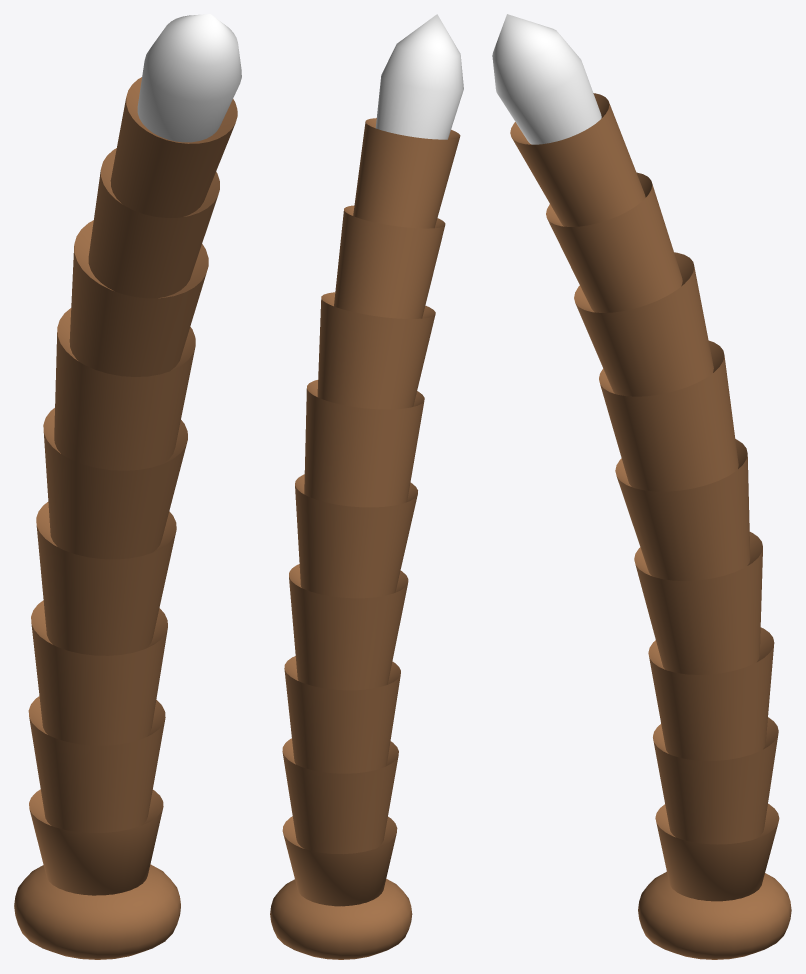
Rendered from Antenna.fbx.
3 views of the same model, side by side, from view 1: azimuth 30°, elevation 25°; view 2: azimuth 150°, elevation 25°; view 3: azimuth 270°, elevation 25° (orthographic). The views are drawn at different scales.
Visible parts, largest first — view 1: Antenna - Daniel Lochner; view 2: Antenna - Daniel Lochner; view 3: Antenna - Daniel Lochner.
Boxes of the visible parts, left/top/right/bottom form: Antenna - Daniel Lochner: left=14, top=14, right=241, bottom=959; Antenna - Daniel Lochner: left=270, top=14, right=463, bottom=959; Antenna - Daniel Lochner: left=492, top=14, right=791, bottom=959.
Size of the model in its own units: 15.08 by 100 by 29.37.
